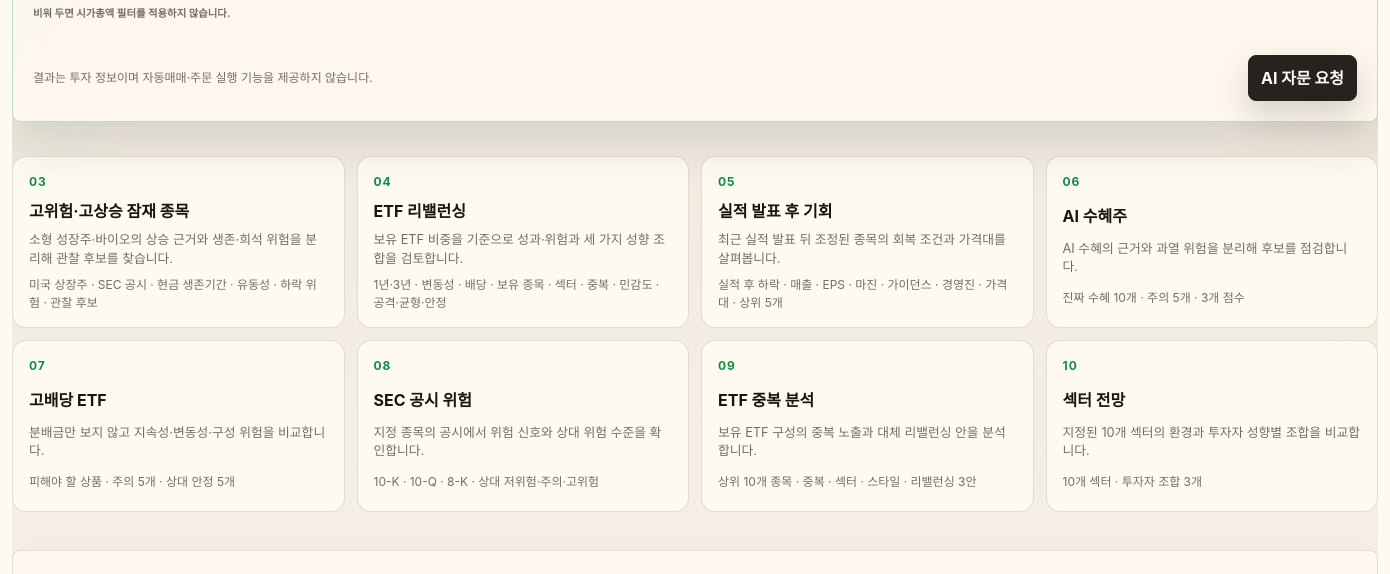
Scenario: Advisory page › blocks only the speculative screen when migration 021 is missing
(page scrolled)
Click the button "고위험·고상승 잠재 종목" at (178, 242), box [12,156,344,328]
(page scrolled)
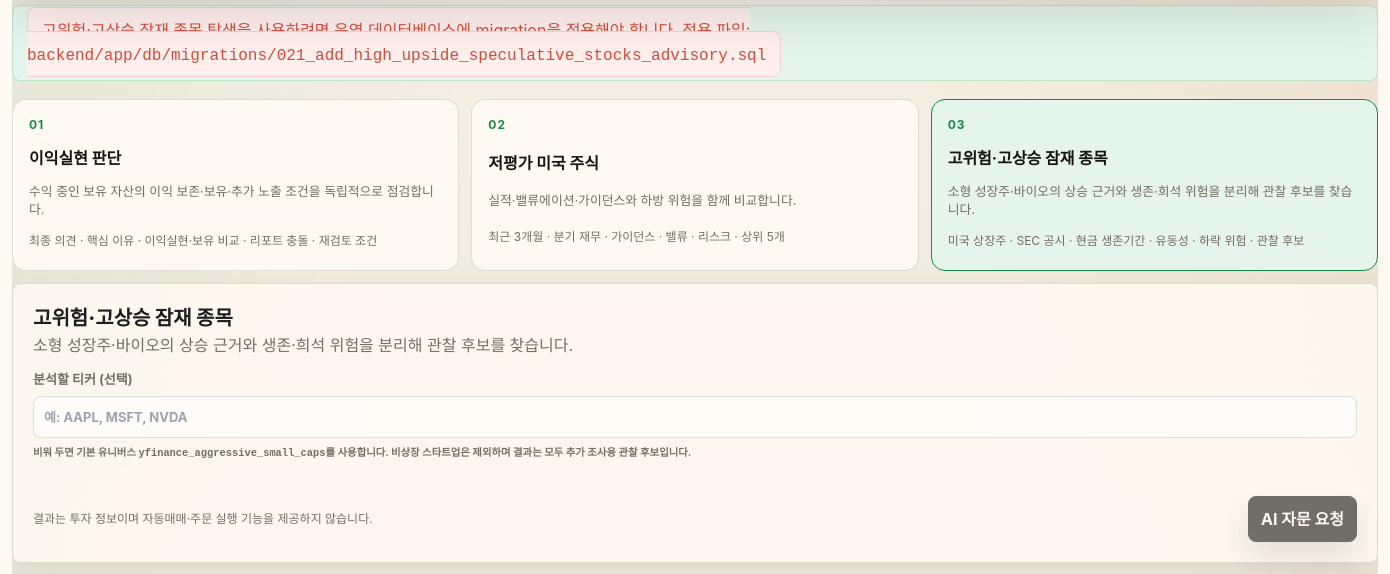
Check: the button "AI 자문 요청" is disabled, box [1248,496,1357,542]
